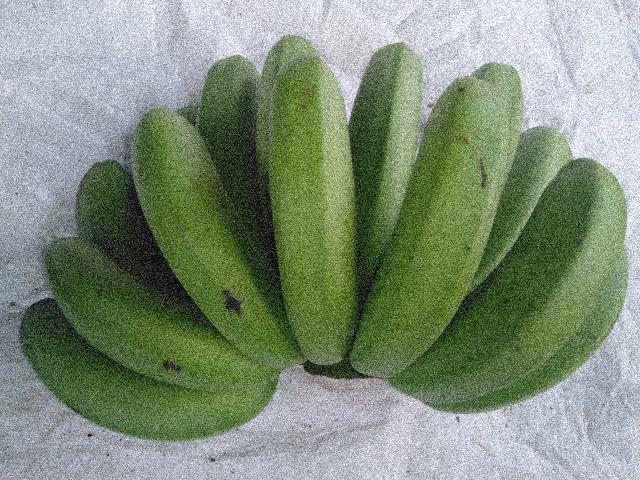unripe: (423, 141, 617, 416), (356, 71, 512, 390), (131, 96, 293, 357), (253, 52, 370, 373), (16, 316, 258, 453), (26, 234, 260, 371), (356, 29, 421, 229), (195, 38, 262, 180)
